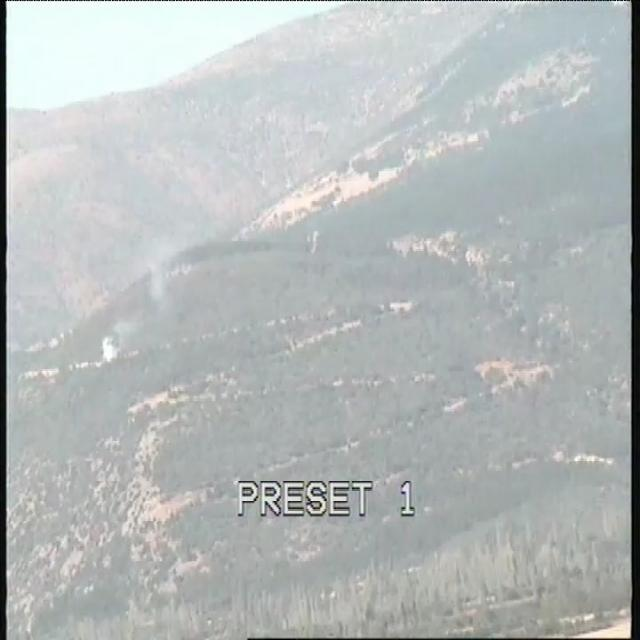smoke: (98, 318, 133, 370)
